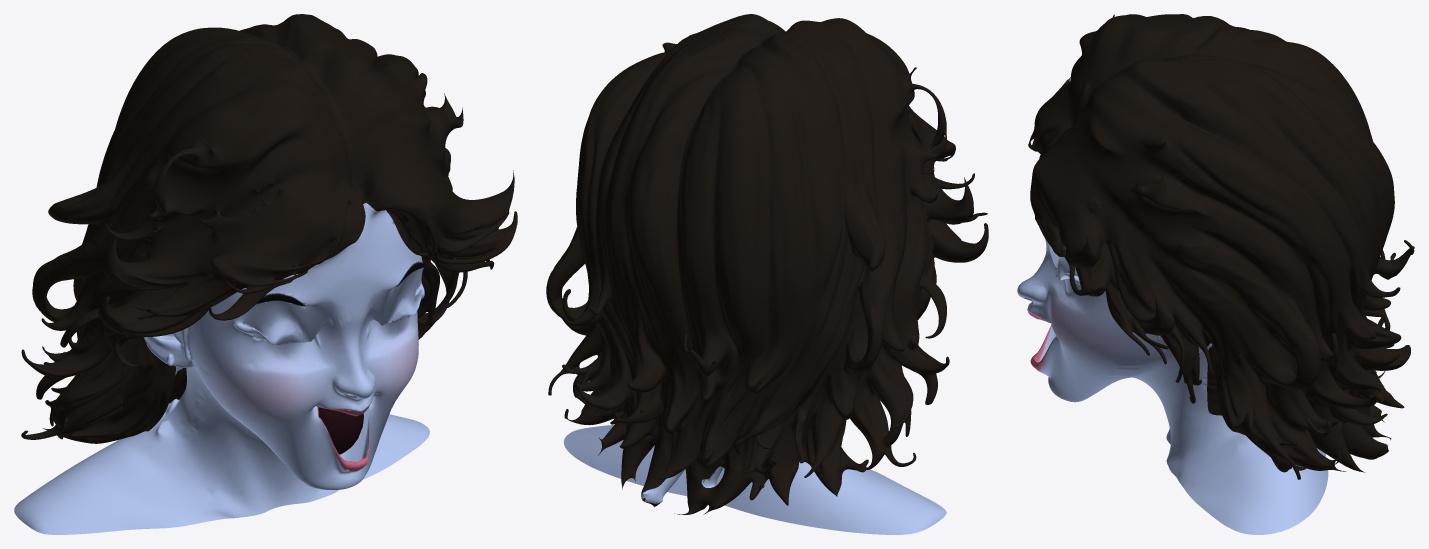
File: krishna-light.glb
3 renders of one model, left to right at view 1: azimuth 30°, elevation 25°; view 2: azimuth 150°, elevation 25°; view 3: azimuth 270°, elevation 25°, orthographic. The views are drawn at different scales.
Visible parts, largest first — view 1: Krishna_face, Krishna_mouth_interior; view 2: Krishna_face; view 3: Krishna_face.
Boxes of the visible parts, x1,y1,x2,y2 form: Krishna_face: (14, 14, 517, 534); Krishna_mouth_interior: (318, 407, 363, 454); Krishna_face: (546, 14, 988, 534); Krishna_face: (1017, 14, 1414, 534).
Bounding box in the file's own units: 0.6225 × 0.6097 × 0.5265.
12 materials, 6 textured.
